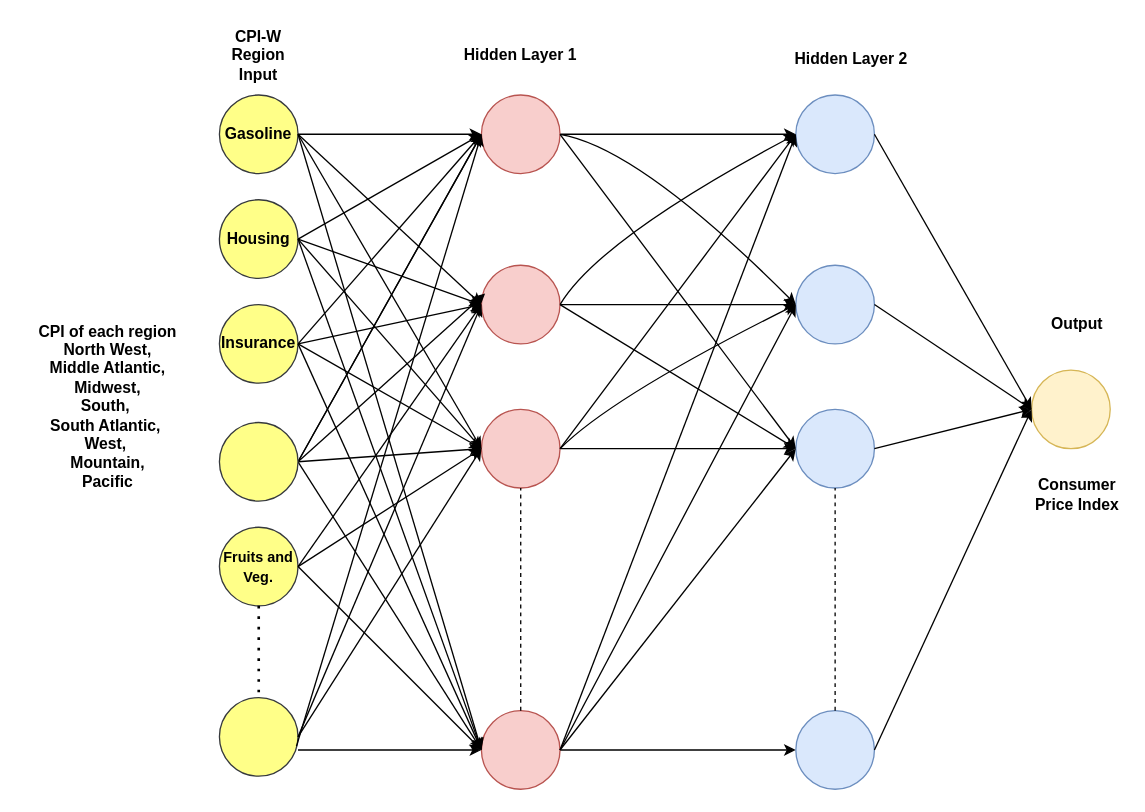
The diagram is 1145 pixels wide and 812 high, and some of its shapes have lost their labels. Here are the shapes that lost their labels. From the top down, the centre of each, then its label:
At point 258,461: "Utility".
At point 258,736: "Apperal".
